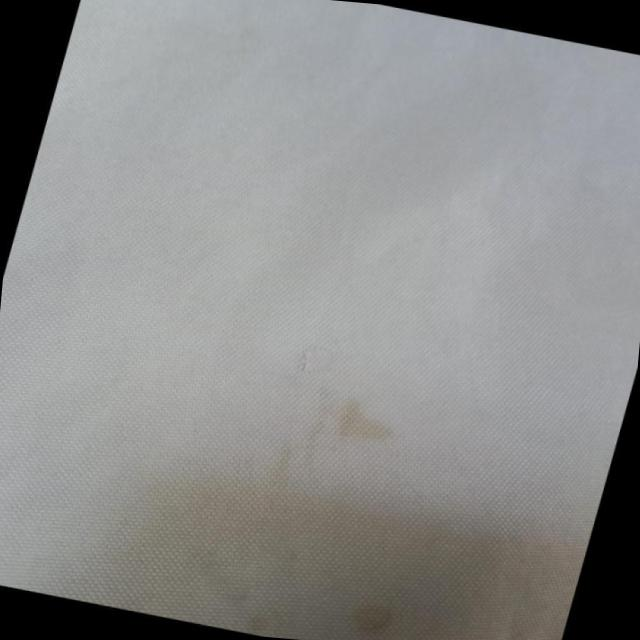stain: (316, 388, 416, 452), (339, 596, 410, 640)
